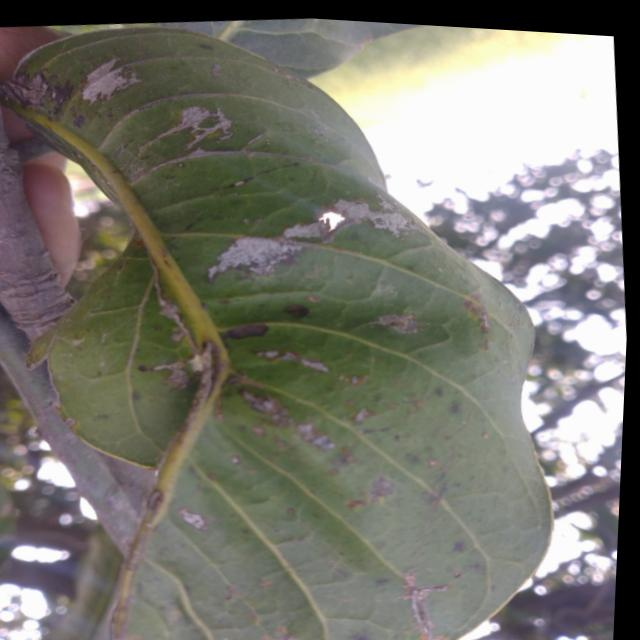Bacterial Cancer: (311, 202, 356, 238), (270, 637, 316, 640)
Powdery Mildew: (199, 217, 329, 284), (243, 337, 346, 386), (174, 96, 236, 154), (75, 55, 129, 111), (398, 575, 444, 619), (8, 65, 56, 106)
